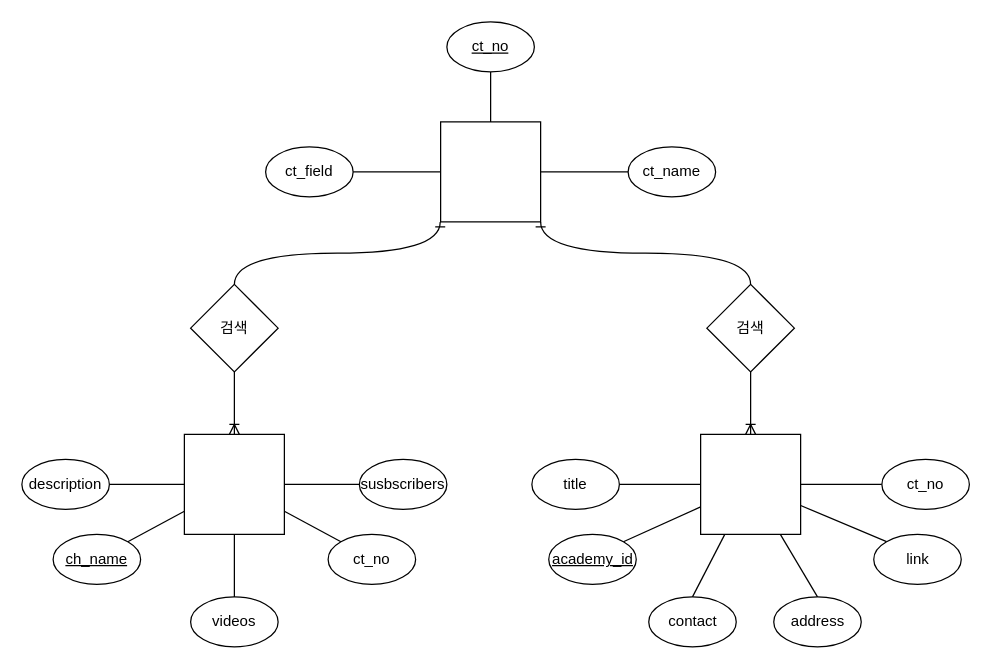
Image size: 991x669. Some labels were removed from this diagram. Here are the shapes that lost their labels. From the top down, the centre of each, then its label:
(490,171): category
(233,483): yt_channel
(750,483): academy
